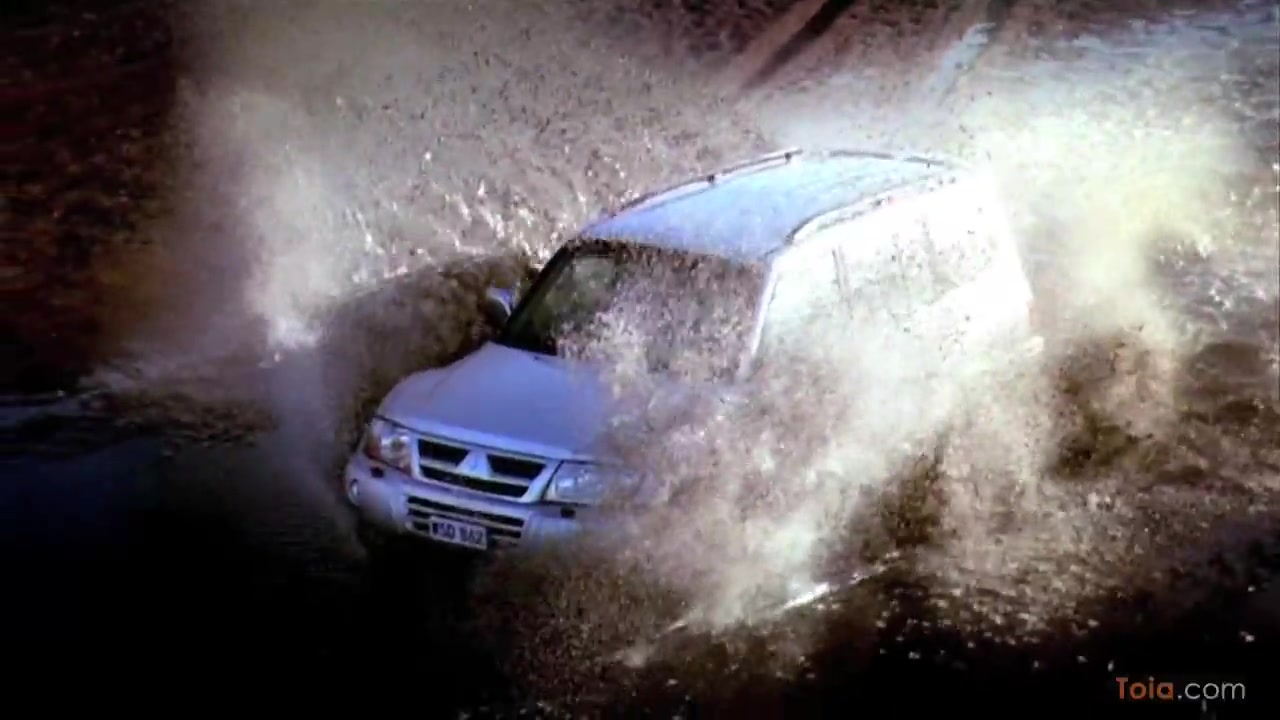car: (343, 142, 1039, 583)
